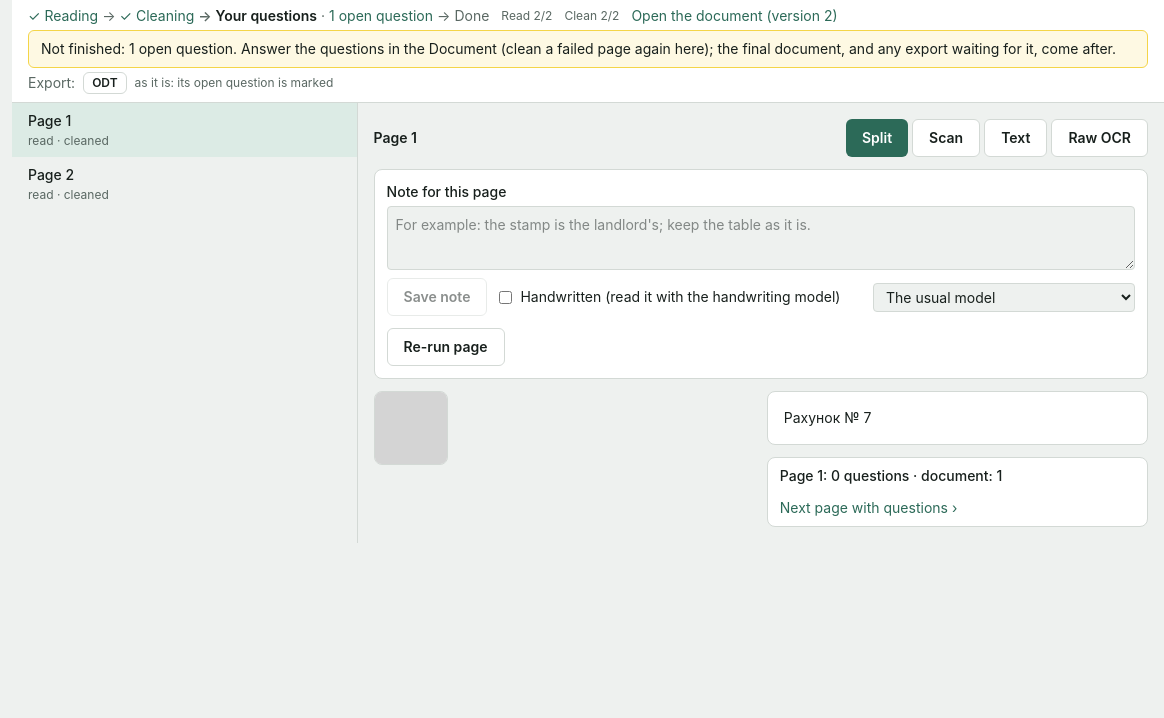
Test: OCR tab › goes to the first open question from its own steps bar
Click the button "1 open question".
click(381, 16)  # box [329,6,433,26]
(page scrolled)
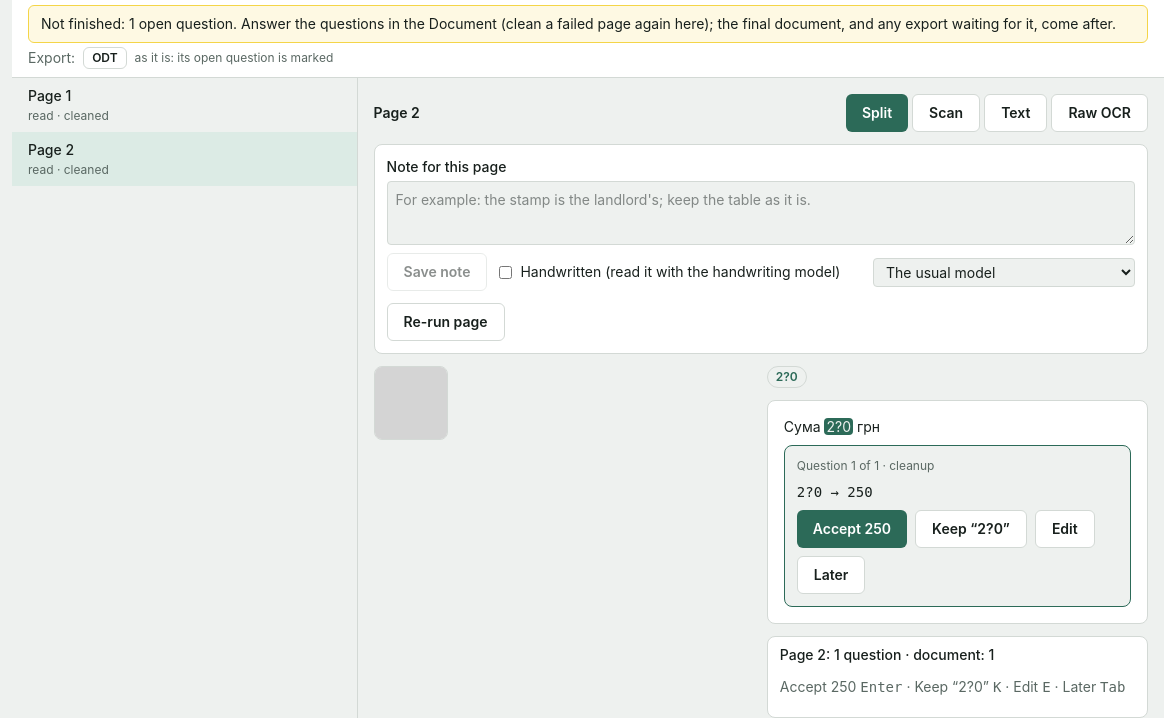
Check: the element with test id "question-card" is shown, box [784,445,1131,607]
